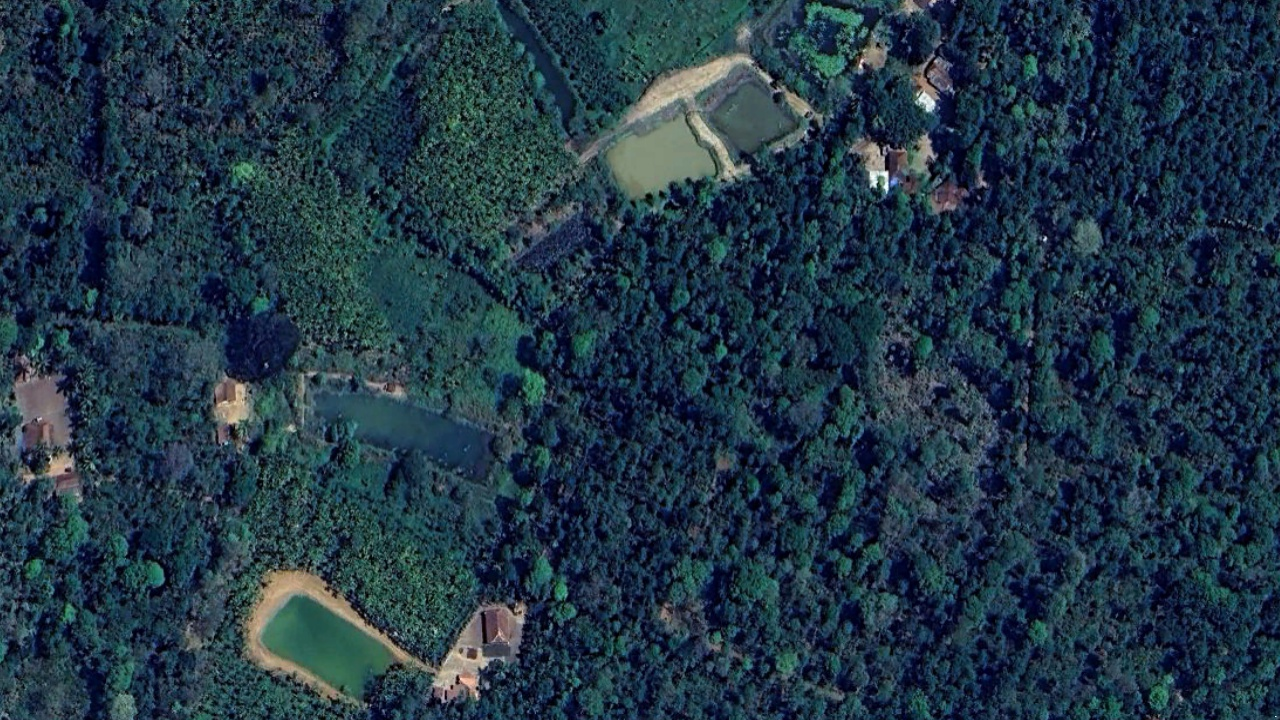arecanut: (221, 466, 475, 645), (404, 22, 574, 216), (256, 128, 367, 336)
